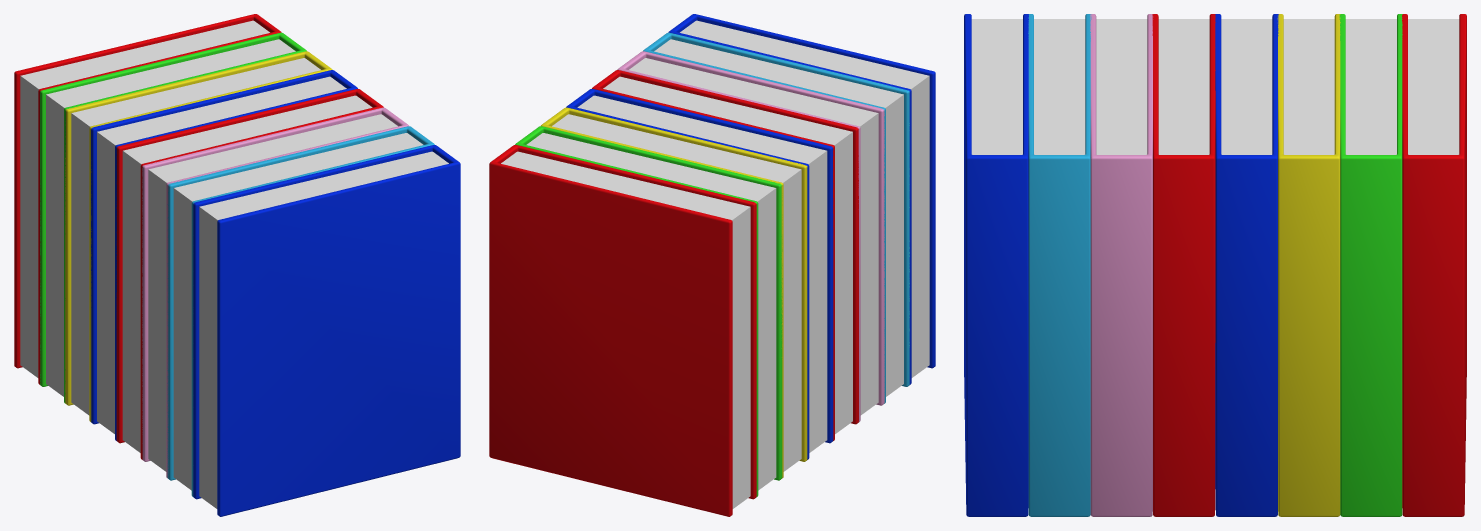
File: ksiazki_fast.fbx
3 renders of one model, left to right at view 1: azimuth 30°, elevation 25°; view 2: azimuth 150°, elevation 25°; view 3: azimuth 270°, elevation 25°, orthographic. The views are drawn at different scales.
Visible parts, largest first — view 1: Cube.007; view 2: Cube.007; view 3: Cube.007.
Part boxes in pixels (x1=…): Cube.007: x1=14, y1=14, x2=460, y2=516; Cube.007: x1=489, y1=14, x2=935, y2=516; Cube.007: x1=964, y1=14, x2=1466, y2=516.
Bounding box in the file's own units: 172 × 200 × 253.
